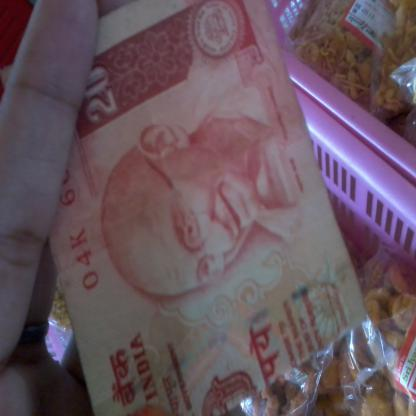Old20Front: (51, 0, 329, 416)
